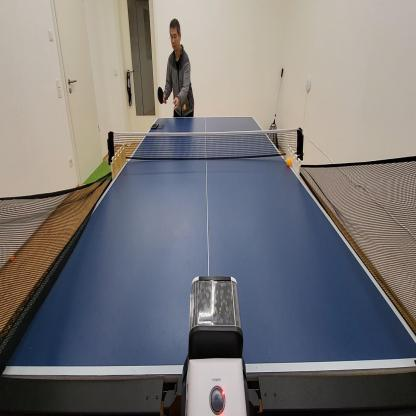Ball: (287, 156, 293, 167), (9, 252, 15, 262), (183, 103, 187, 111)
